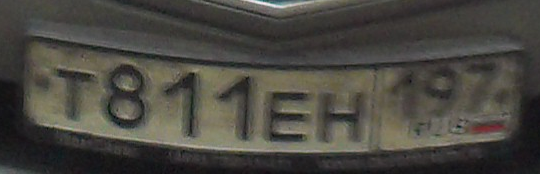character: (99, 58, 148, 134), (159, 61, 205, 141), (316, 90, 369, 150), (262, 85, 313, 147), (215, 72, 256, 147), (52, 62, 97, 126), (423, 62, 464, 123), (461, 59, 503, 117), (389, 62, 422, 124)
